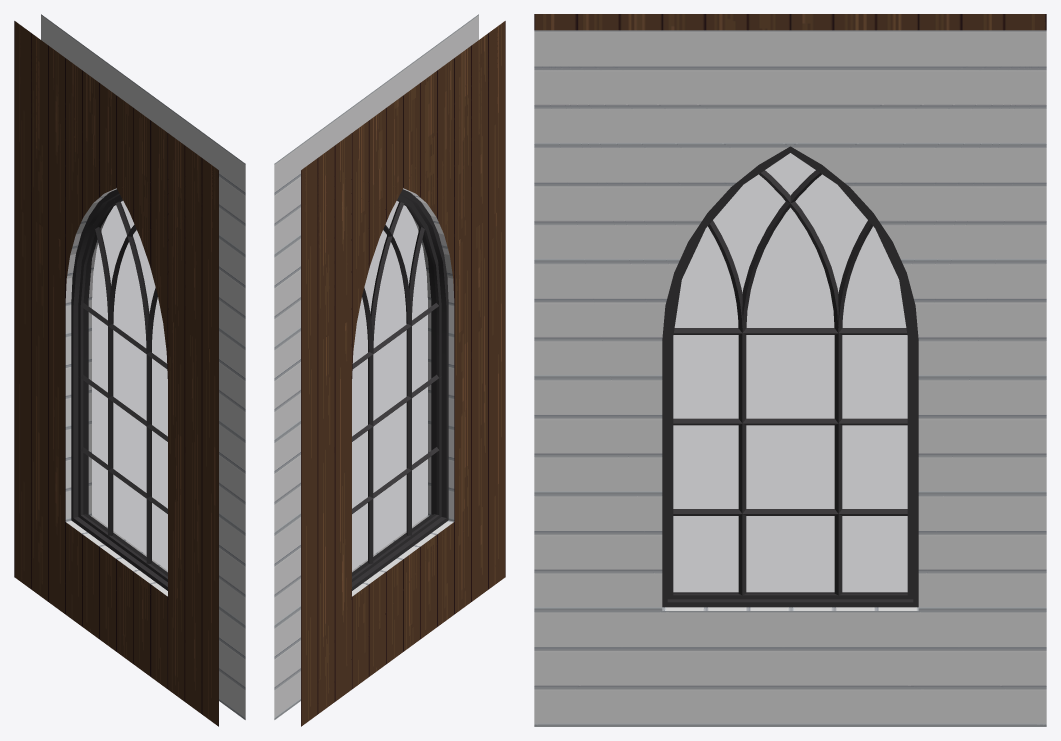
File: SM_window_12.glb
3 renders of one model, left to right at view 1: azimuth 30°, elevation 25°; view 2: azimuth 150°, elevation 25°; view 3: azimuth 270°, elevation 25°, orthographic. The views are drawn at different scales.
Parts seen in each view (by area): view 1: SM_window_12; view 2: SM_window_12; view 3: SM_window_12.
Part boxes in pixels (x1,y1,x2,y2): SM_window_12: [14, 14, 245, 726]; SM_window_12: [274, 14, 505, 726]; SM_window_12: [534, 14, 1046, 726].
Size of the model in its own units: 0.3 by 6 by 4.
4 materials, 3 textured.
